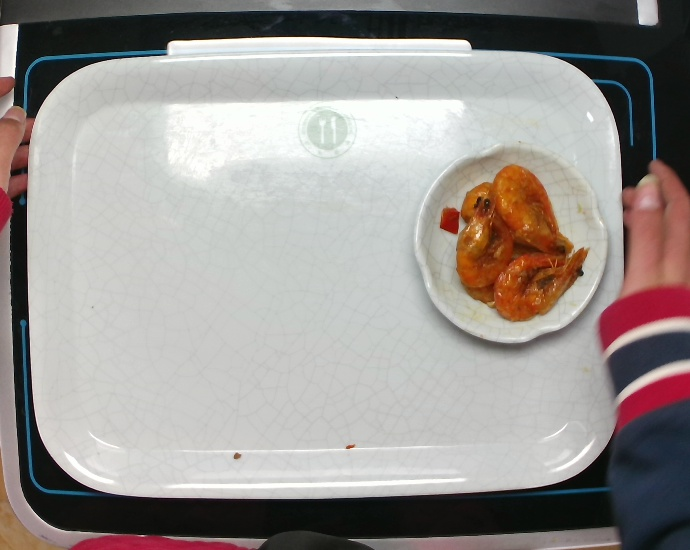JYsf-Ao_Yuan_Wan: (409, 137, 611, 348)
